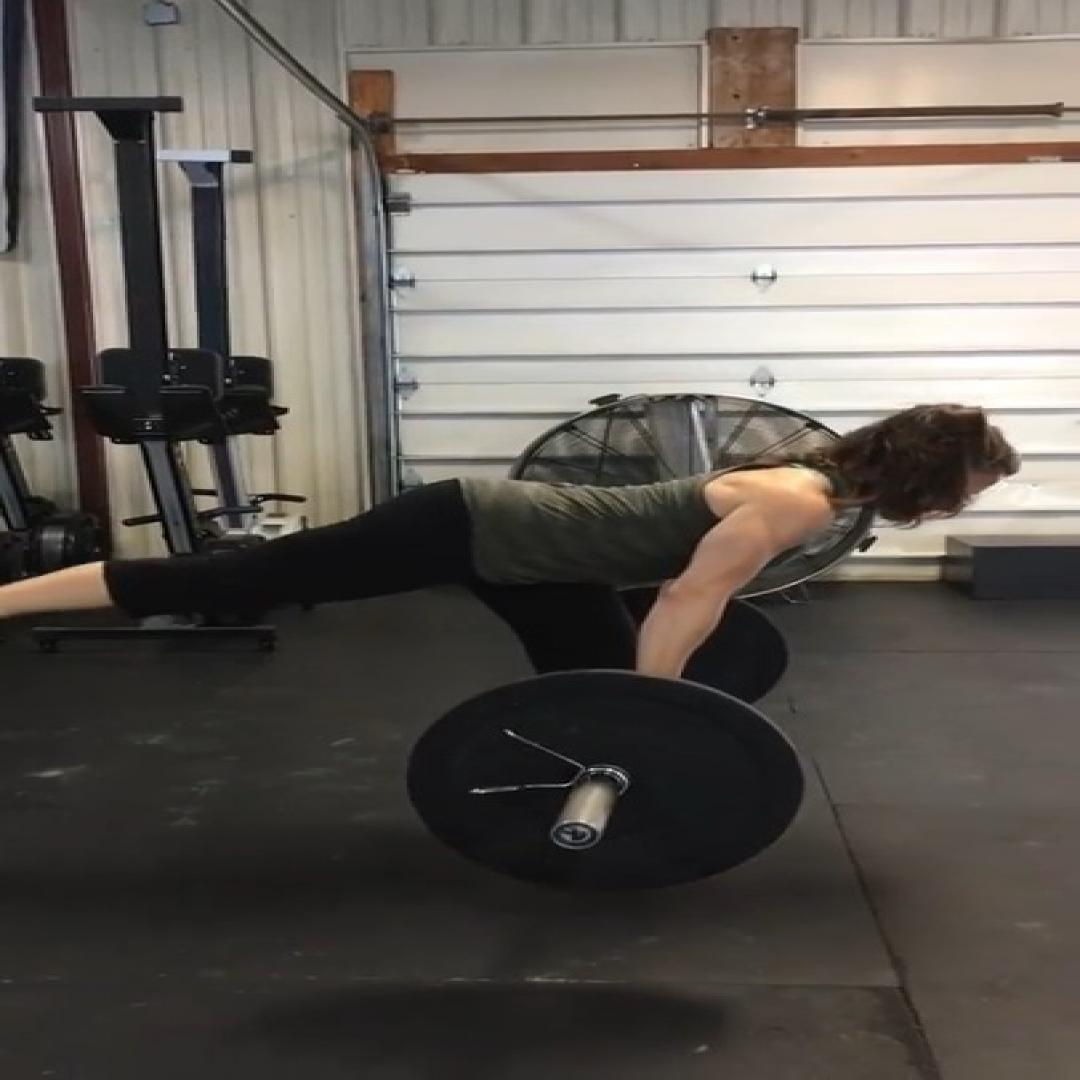Bar: (548, 819, 604, 851)
Barbell: (404, 671, 806, 891)
